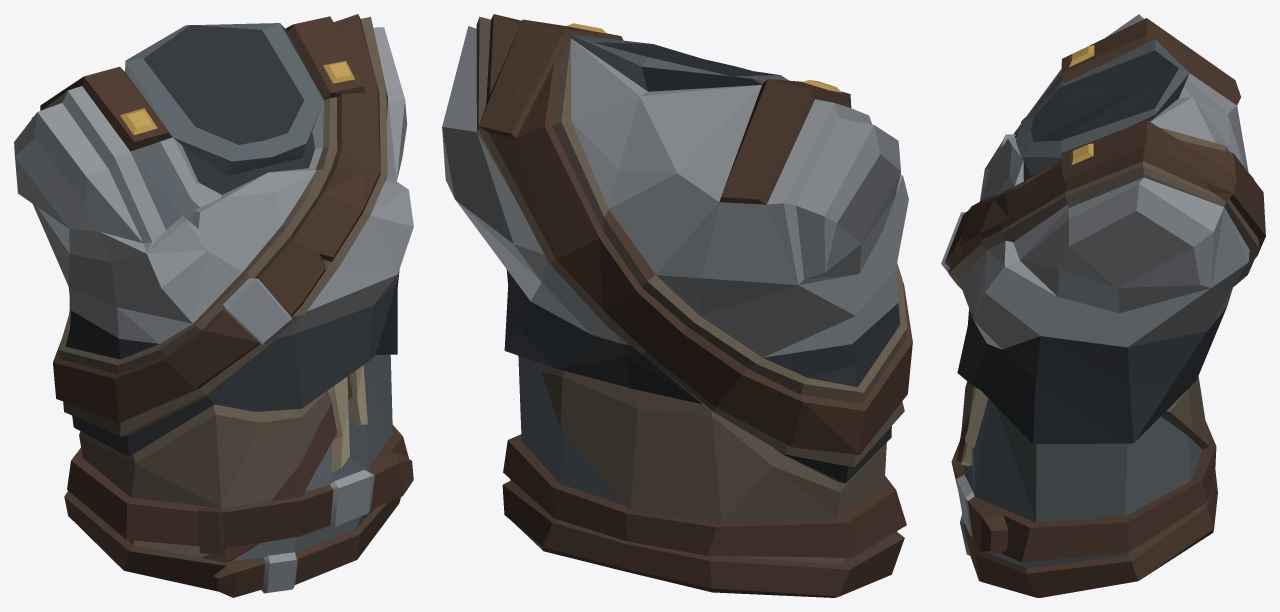
The model's file is Chr_Torso_Male_22_Static.fbx.
The picture shows the model from 3 angles, left to right: view 1: azimuth 30°, elevation 25°; view 2: azimuth 150°, elevation 25°; view 3: azimuth 270°, elevation 25°; orthographic projection. The views are drawn at different scales.
Visible parts, largest first — view 1: Chr_Torso_Male_22_Static; view 2: Chr_Torso_Male_22_Static; view 3: Chr_Torso_Male_22_Static.
Part boxes in pixels (box(x1,y1,x2,y2)): Chr_Torso_Male_22_Static: box(14, 14, 413, 597); Chr_Torso_Male_22_Static: box(442, 14, 912, 597); Chr_Torso_Male_22_Static: box(941, 14, 1265, 597).
Bounding box in the file's own units: 0.502 × 0.6621 × 0.3966.
